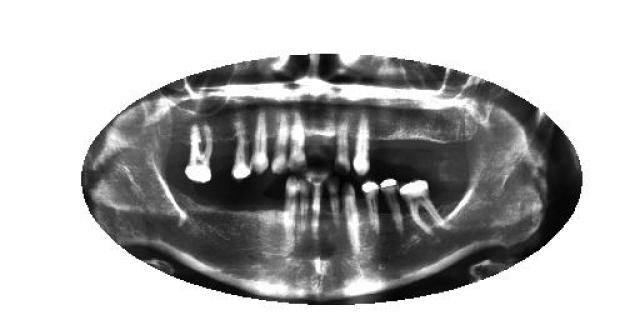Fillings: (380, 176, 404, 238)
